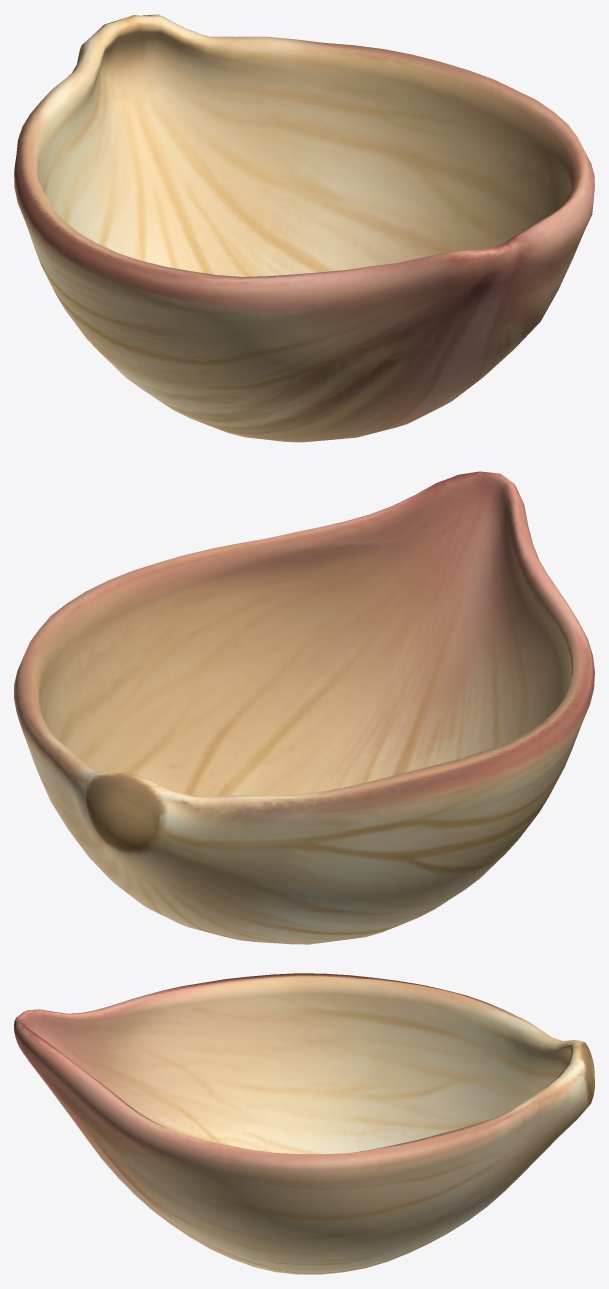
File: lotus-petal-aholo-8390162.glb
3 views of the same model, one above another, from view 1: azimuth 30°, elevation 25°; view 2: azimuth 150°, elevation 25°; view 3: azimuth 270°, elevation 25° (orthographic). The views are drawn at different scales.
Parts seen in each view (by area): view 1: LotusPetal_Retopology_Aholo_8390162; view 2: LotusPetal_Retopology_Aholo_8390162; view 3: LotusPetal_Retopology_Aholo_8390162.
Boxes of the visible parts, <box> form: LotusPetal_Retopology_Aholo_8390162: <box>14,14,594,442</box>; LotusPetal_Retopology_Aholo_8390162: <box>14,471,594,944</box>; LotusPetal_Retopology_Aholo_8390162: <box>14,973,594,1274</box>.
Bounding box in the file's own units: 0.7736 × 0.4535 × 1.01.
Materials: 1 (1 with a texture image).
